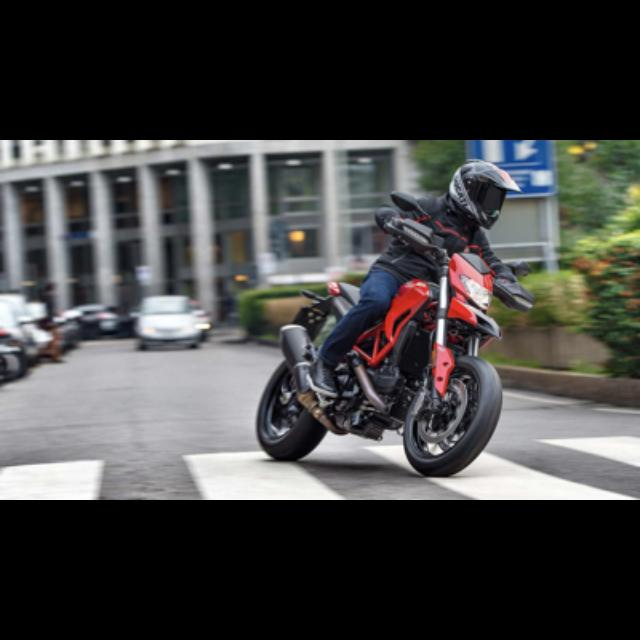With Helmet: (444, 153, 528, 231)
